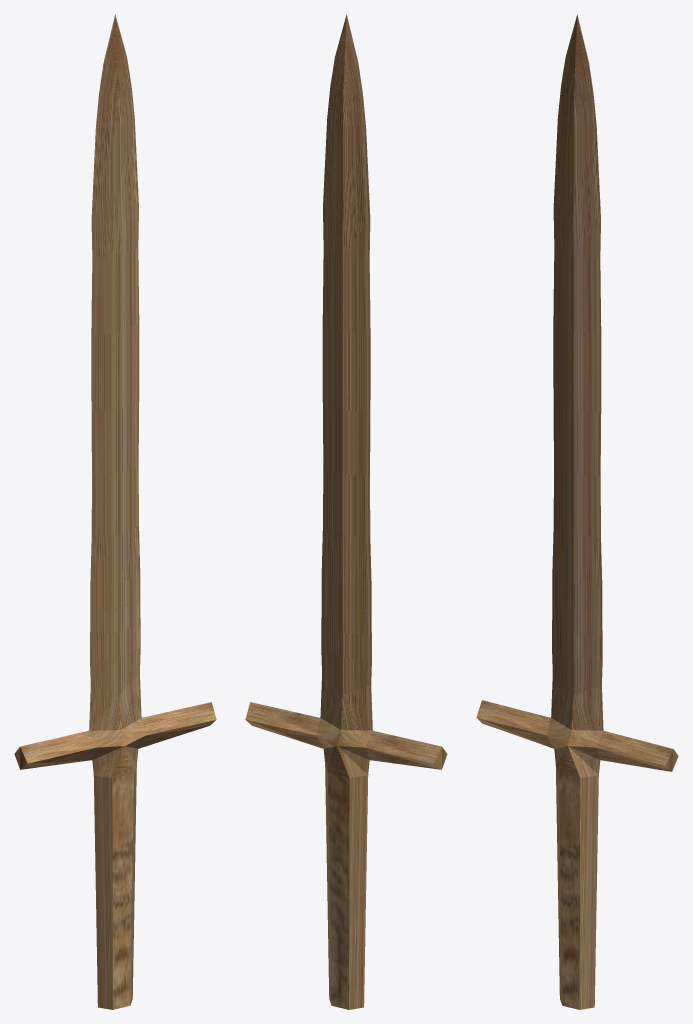
File: wooden-2H-sword.obj
3 views of the same model, side by side, from view 1: azimuth 30°, elevation 25°; view 2: azimuth 150°, elevation 25°; view 3: azimuth 330°, elevation 25° (orthographic).
Visible parts, largest first — view 1: Mesh_Mesh_KingdomLongsword; view 2: Mesh_Mesh_KingdomLongsword; view 3: Mesh_Mesh_KingdomLongsword.
Part boxes in pixels (left/top/right/bottom): Mesh_Mesh_KingdomLongsword: left=14, top=14, right=216, bottom=1009; Mesh_Mesh_KingdomLongsword: left=245, top=14, right=447, bottom=1009; Mesh_Mesh_KingdomLongsword: left=476, top=14, right=678, bottom=1009.
Bounding box in the file's own units: 0.4542 × 2.24 × 0.0782.
2 materials, 2 textured.
